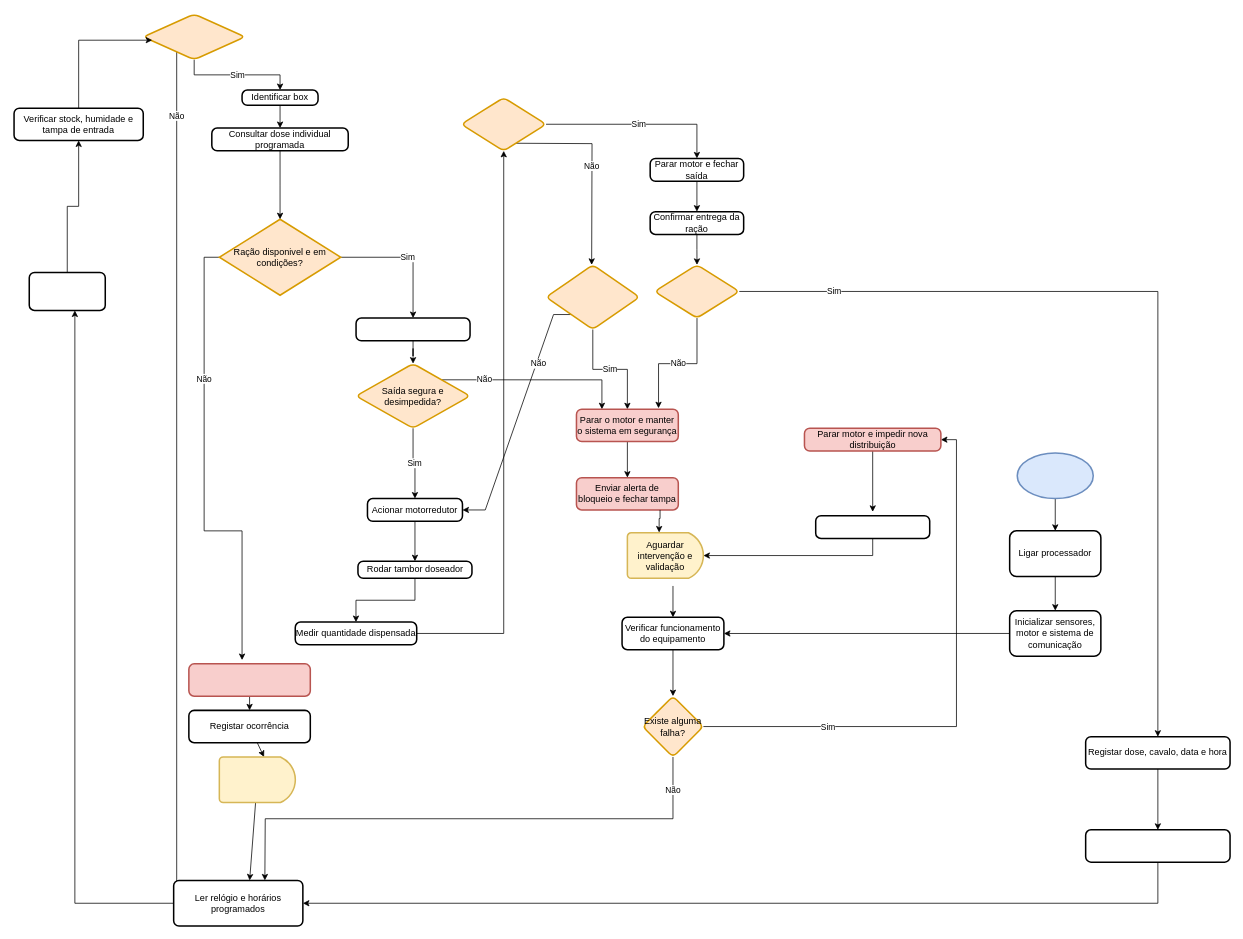
This 1243x939 diagram has some shape labels left out. Each missing label, with the centre of its shape:
"Bloquear doseamento e alertar responsável" goes at (249,680).
"Dose programada atingida?" goes at (503,124).
"Entrega confirmada?" goes at (696,291).
"Enviar confirmação ao utilizador" goes at (1157,846).
"Esperar retificação" goes at (257,779).
"Está na hora de comer?" goes at (193,36).
"Existe bloqueio ou anomalia?" goes at (592,297).
"Início" goes at (1055,475).
"Monitorizar sensores" goes at (67,291).
"Registar erro e enviar alerta" goes at (872,527).
"Verificar tampa de saída e bloqueios" goes at (412,329).
